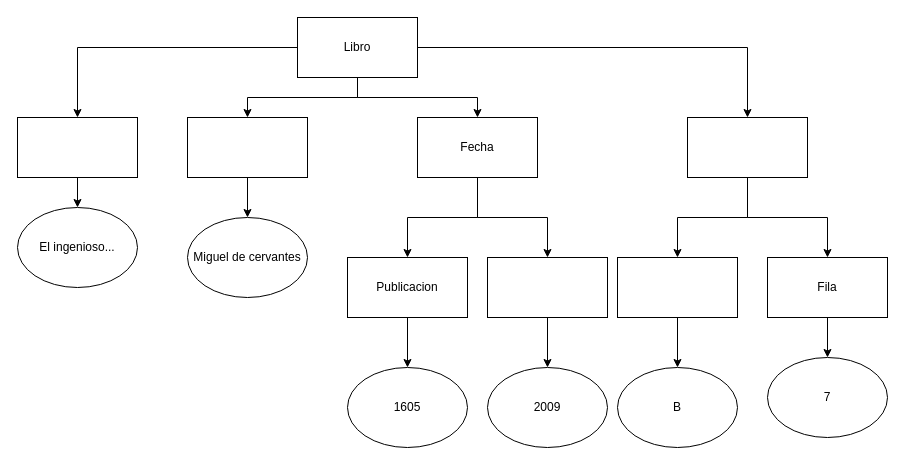
Image size: 905x465. Some labels were removed from this diagram. The centre of each missing label's shape, as x and y in pixels:
"Autor" belongs at pixel 247 147.
"Edicion" belongs at pixel 547 287.
"Estanteria" belongs at pixel 677 287.
"Localizacion" belongs at pixel 747 147.
"Titulo" belongs at pixel 77 147.
